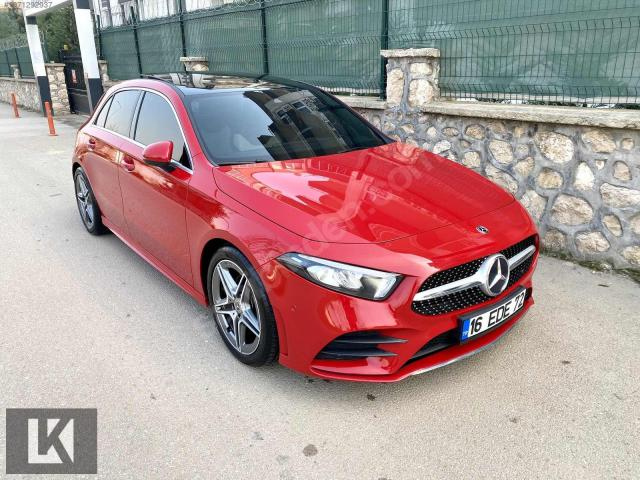plaka: (462, 290, 524, 339)
